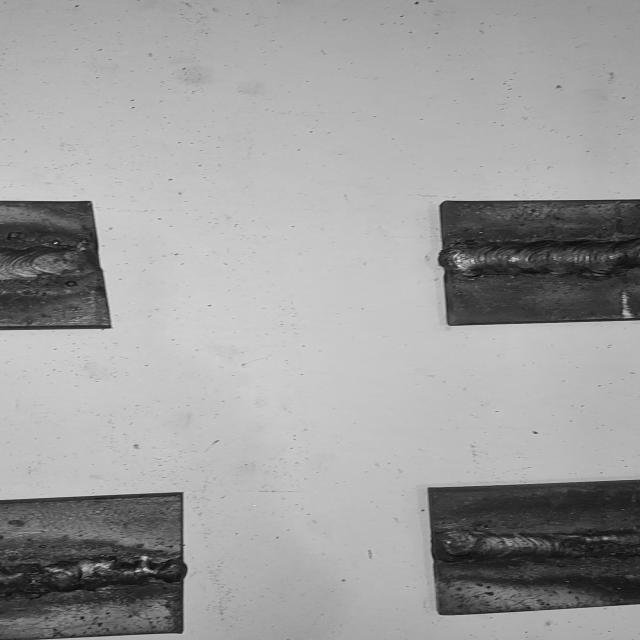Defect: (0, 553, 183, 596)
Welding Line: (442, 240, 640, 278), (437, 527, 640, 562), (0, 562, 183, 594), (0, 244, 101, 283)
Workpiece: (421, 472, 640, 621), (0, 485, 199, 640), (431, 193, 640, 330), (0, 192, 134, 338)
